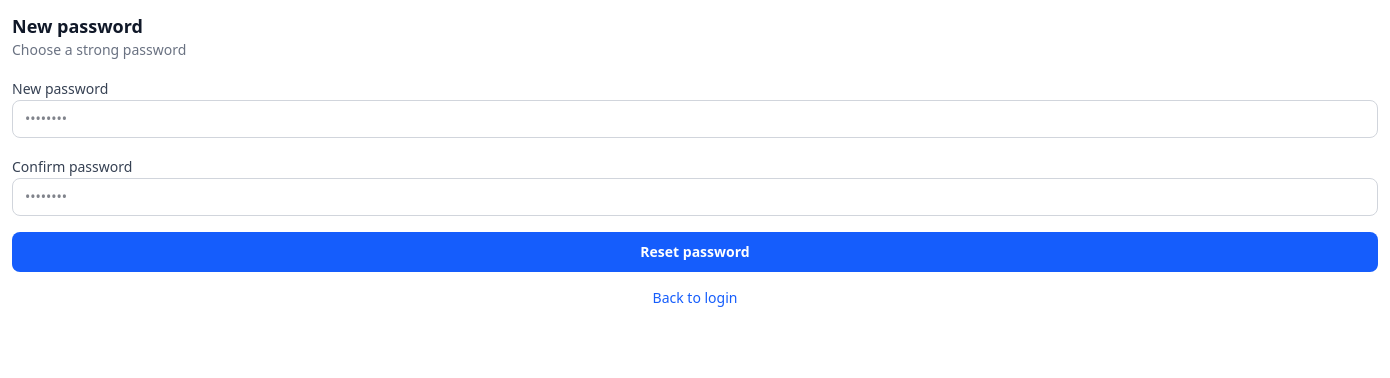
Scenario: ResetPassword › shows an error message for an invalid or expired token
Type "password123" into the 1st password field with placeholder "••••••••" at coordinates (695, 119), box [12,100,1378,138]
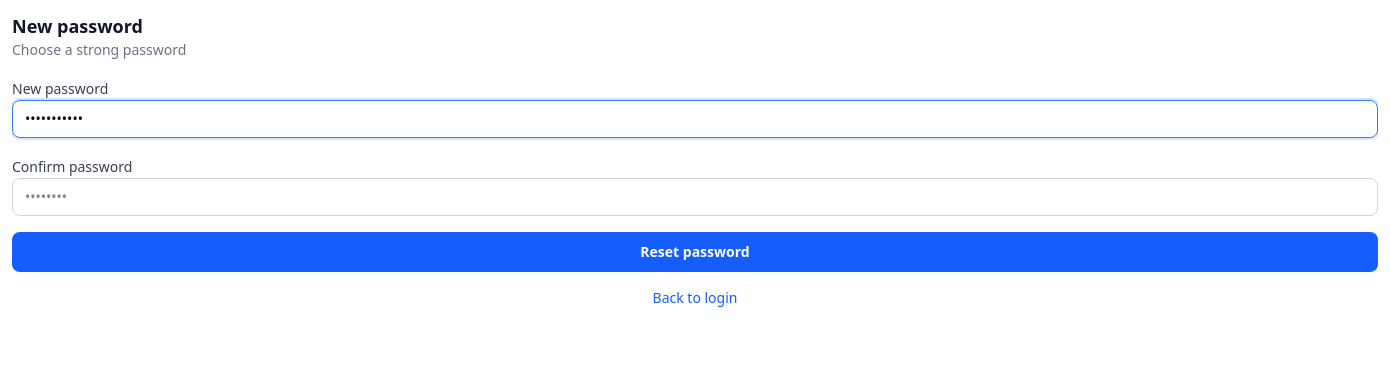
Type "password123" into the password field with placeholder "••••••••" at coordinates (695, 197), box [12,178,1378,216]
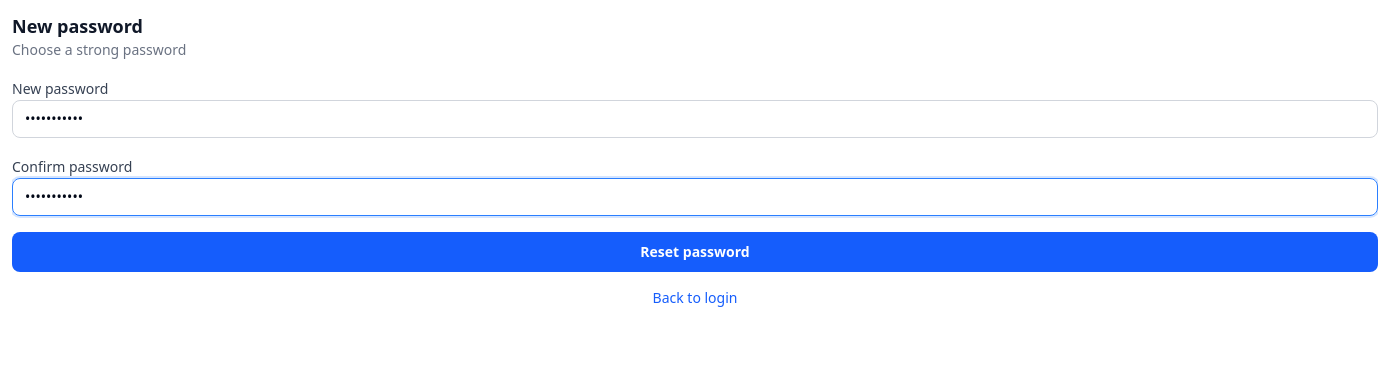
Click the button "Reset password" at coordinates (695, 252), box [12,232,1378,272]
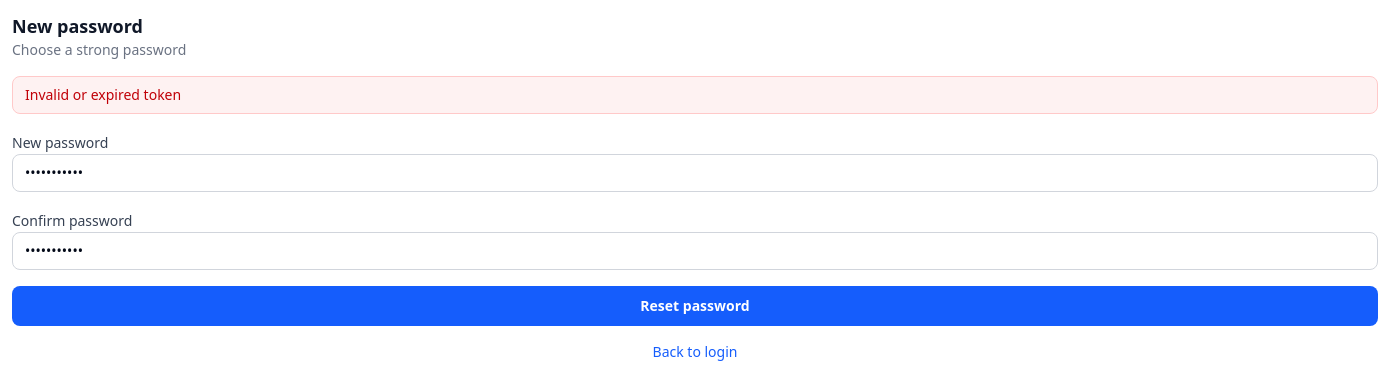
Expected: the text "Invalid or expired token" is shown, [12,76,1378,114]
